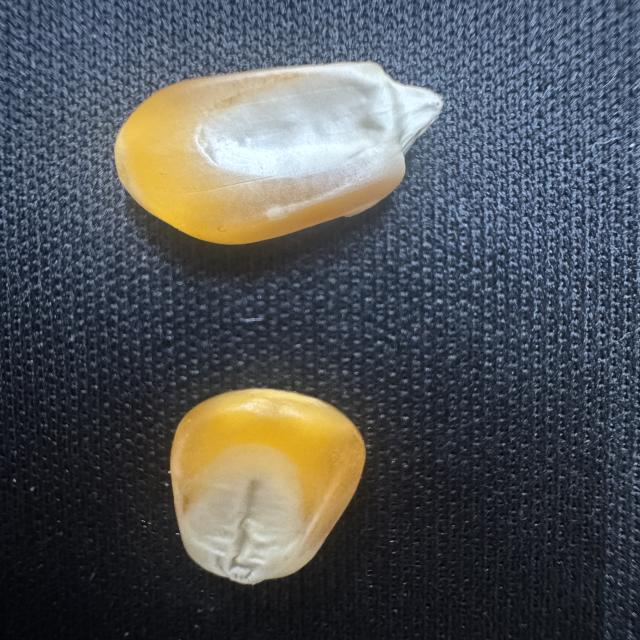Good-Seed: (106, 54, 450, 250), (157, 383, 368, 587)
